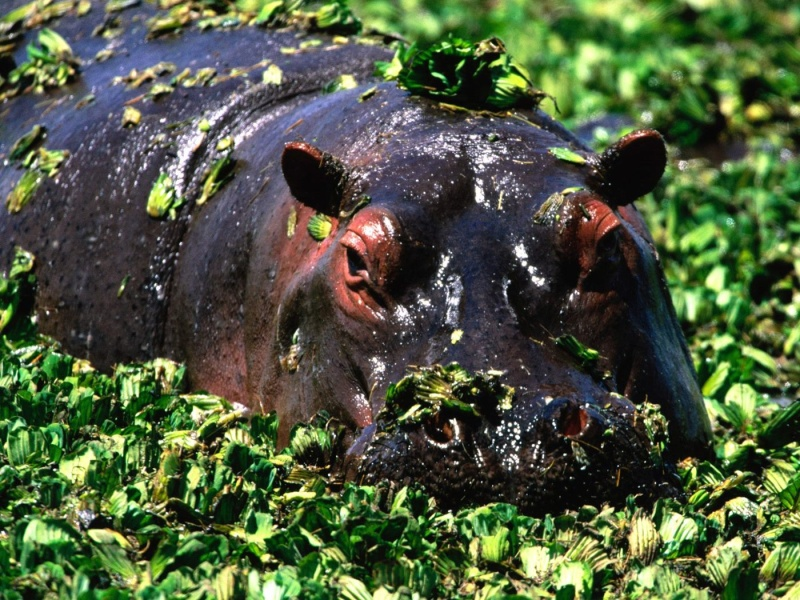hipopotamo: (0, 0, 701, 501)
